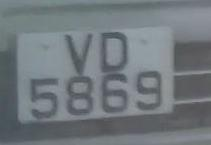5: (24, 72, 67, 124)
6: (95, 70, 136, 117)
8: (61, 74, 102, 121)
9: (129, 67, 167, 114)
D: (94, 28, 139, 81)
V: (57, 26, 99, 81)
